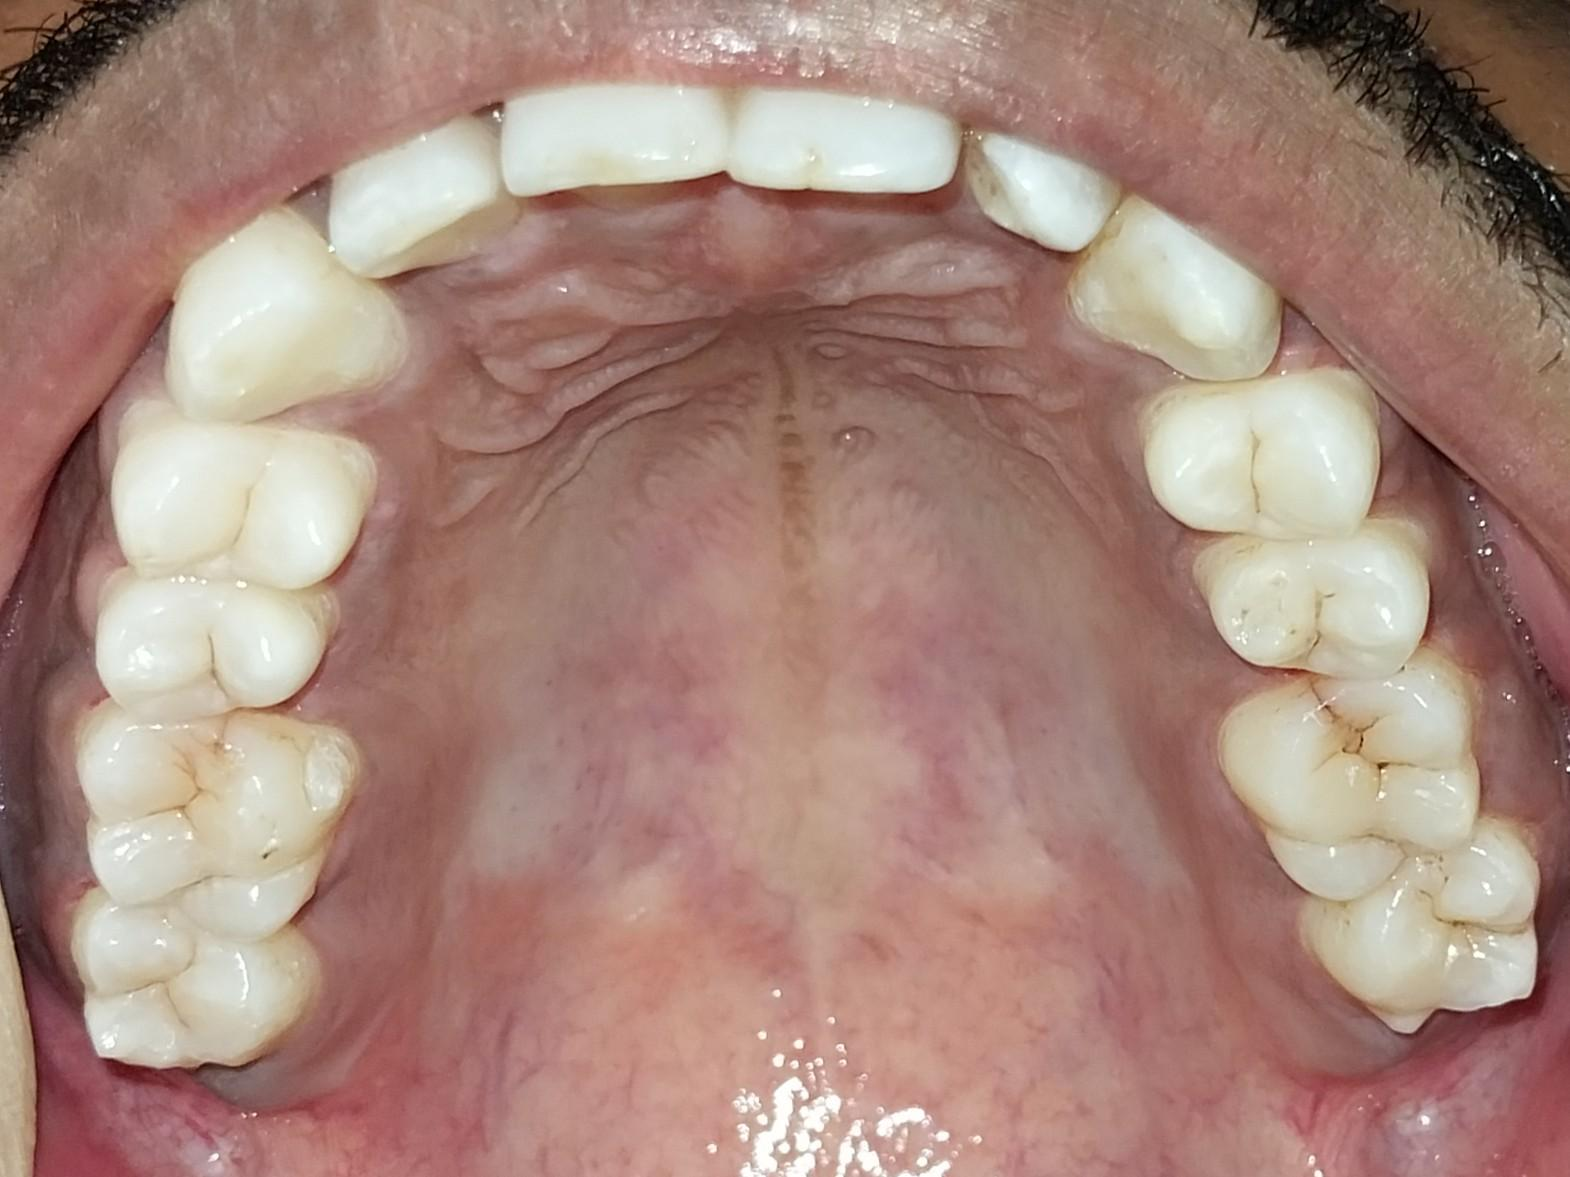D: (1221, 678, 1483, 900)
